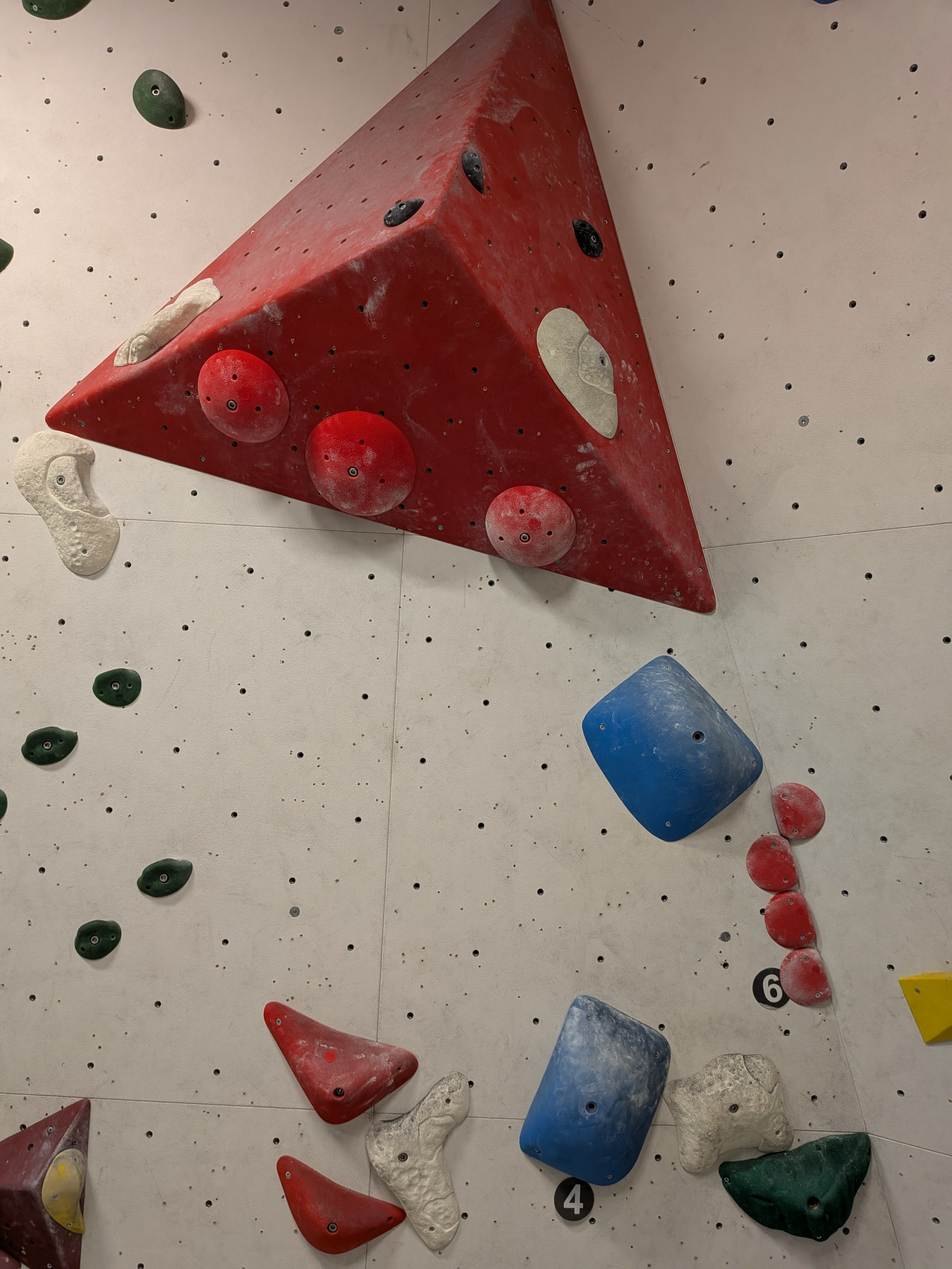hold: (583, 655, 763, 841), (519, 996, 670, 1185), (264, 1002, 418, 1124), (365, 1072, 469, 1250), (719, 1133, 871, 1241), (664, 1054, 793, 1173), (15, 432, 119, 576), (277, 1156, 405, 1254), (307, 411, 415, 516), (537, 308, 617, 438), (114, 279, 221, 366), (198, 350, 289, 444), (486, 485, 575, 566), (42, 1149, 86, 1235), (898, 973, 952, 1043), (133, 69, 186, 128), (771, 783, 825, 840), (746, 835, 798, 892), (764, 891, 816, 948), (779, 949, 830, 1006), (137, 858, 193, 898), (21, 726, 77, 765), (75, 919, 121, 960), (93, 669, 142, 707), (23, 0, 89, 20), (573, 218, 603, 257), (384, 198, 423, 227), (461, 149, 484, 193), (0, 789, 8, 820)
volume: (42, 0, 720, 614), (0, 1096, 92, 1269)
